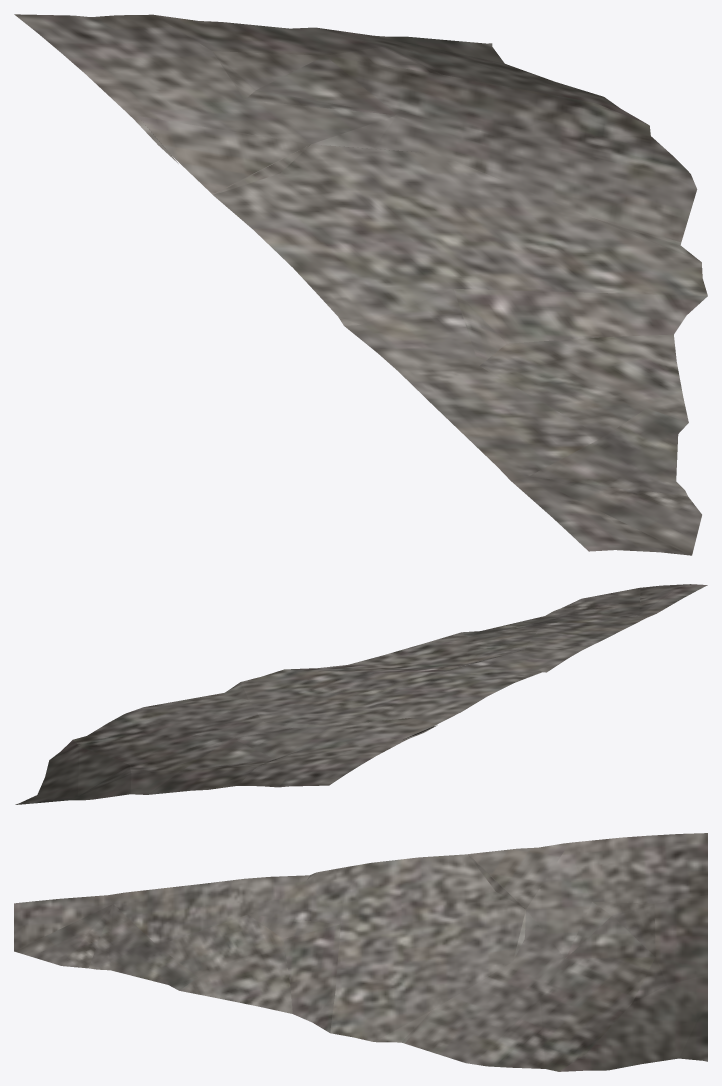
The picture shows the model from 3 angles, top to bottom: view 1: azimuth 30°, elevation 25°; view 2: azimuth 150°, elevation 25°; view 3: azimuth 270°, elevation 25°; orthographic projection. The views are drawn at different scales.
Size of the model in its own units: 0.4309 by 0.1171 by 0.8374.
Materials: 1 (1 with a texture image).
